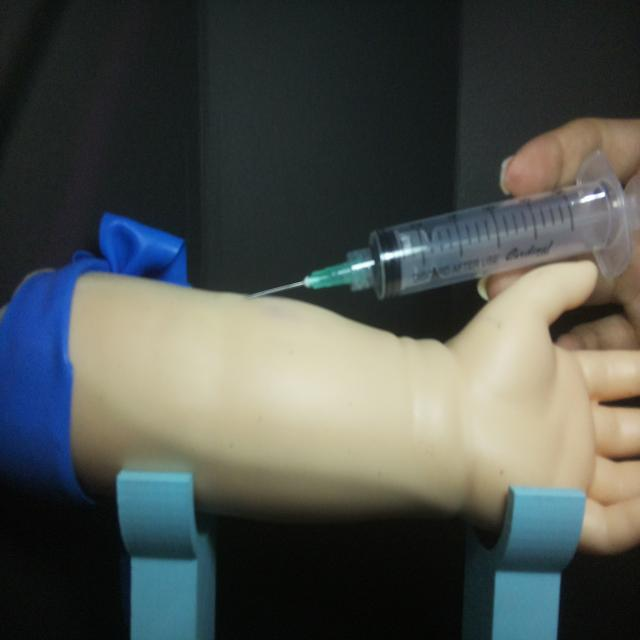20deg: (242, 147, 634, 308)
